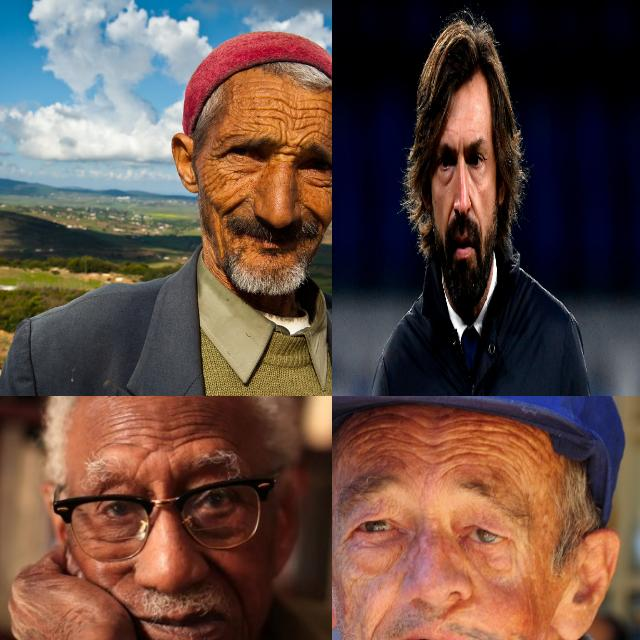crows_feet: (205, 143, 228, 169)
forehead: (462, 422, 520, 468), (407, 428, 449, 459), (350, 415, 380, 451), (164, 411, 192, 445), (133, 412, 157, 448), (199, 421, 229, 447), (104, 419, 128, 448), (314, 98, 332, 134), (234, 114, 266, 134), (249, 90, 281, 110), (288, 95, 308, 126), (275, 118, 291, 136), (444, 127, 456, 136), (465, 126, 478, 134)
frown_line: (278, 138, 300, 164), (161, 456, 177, 479), (130, 458, 142, 480), (458, 140, 465, 156)
gummy_smile: (209, 561, 243, 595), (361, 609, 385, 640), (222, 194, 244, 218), (305, 204, 327, 226), (468, 194, 477, 216), (447, 200, 454, 220)
masseter: (202, 177, 226, 197)
